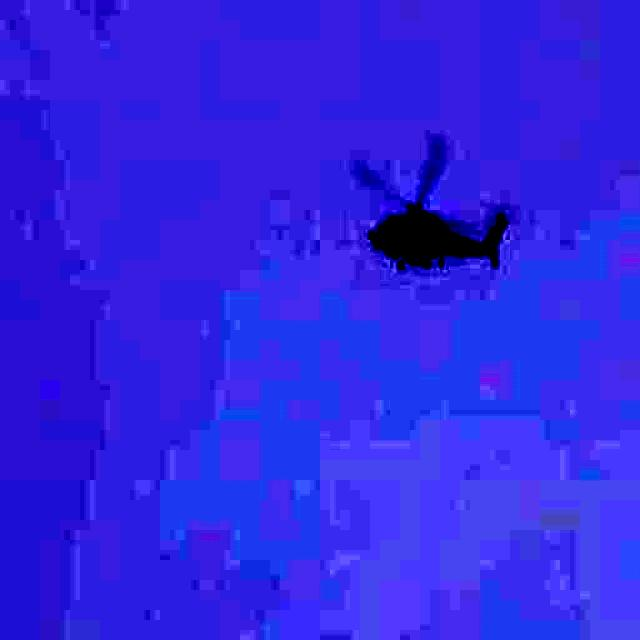drone: (360, 138, 514, 316)
